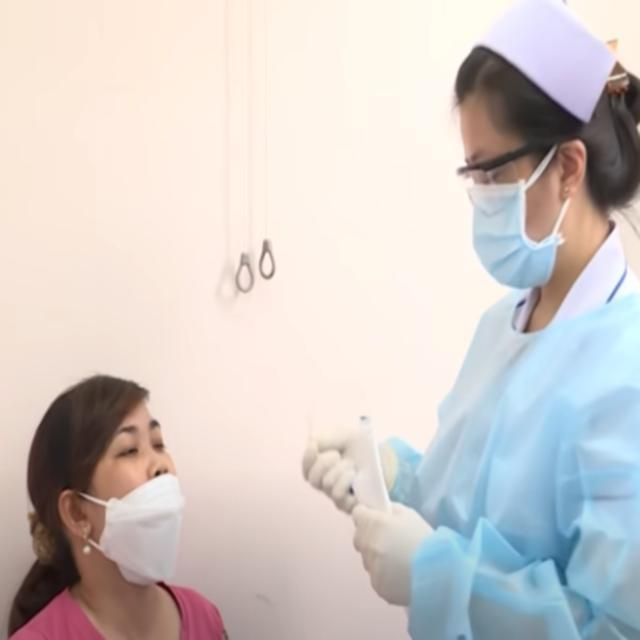hairnet: (108, 416, 181, 578)
